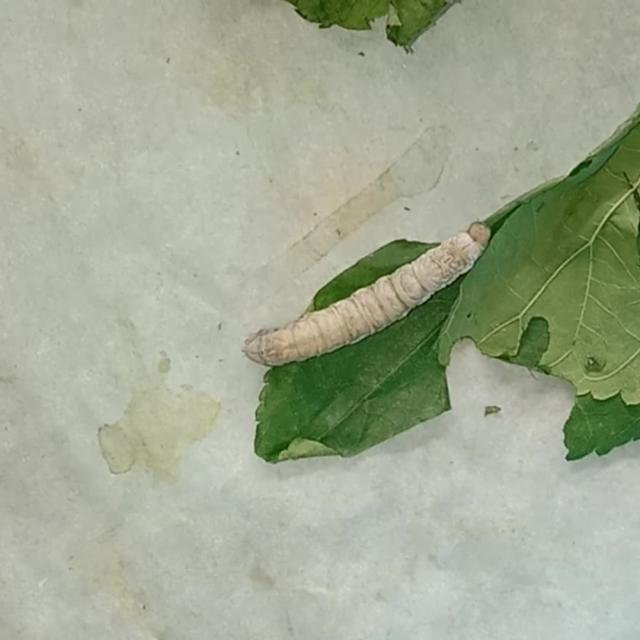Grasserie: (234, 202, 533, 411)
